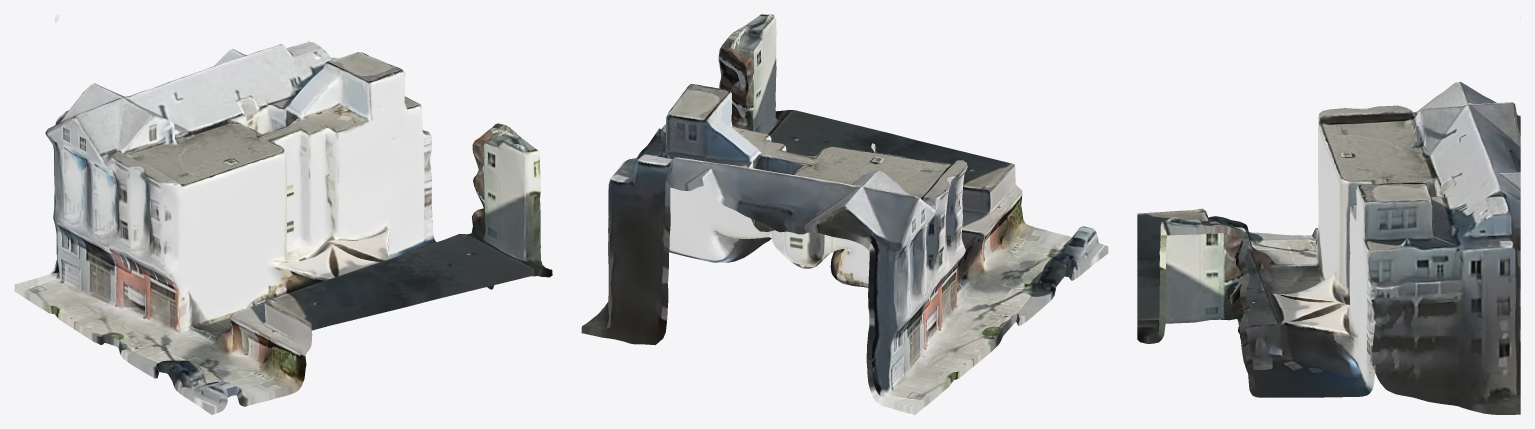
The model's file is z20-167743-405198-h0-yup-uvflip-v3-world.glb.
3 views of the same model, side by side, from view 1: azimuth 30°, elevation 25°; view 2: azimuth 150°, elevation 25°; view 3: azimuth 270°, elevation 25° (orthographic). The views are drawn at different scales.
Size of the model in its own units: 30.24 by 22.6 by 30.32.
1 material, 1 textured.
